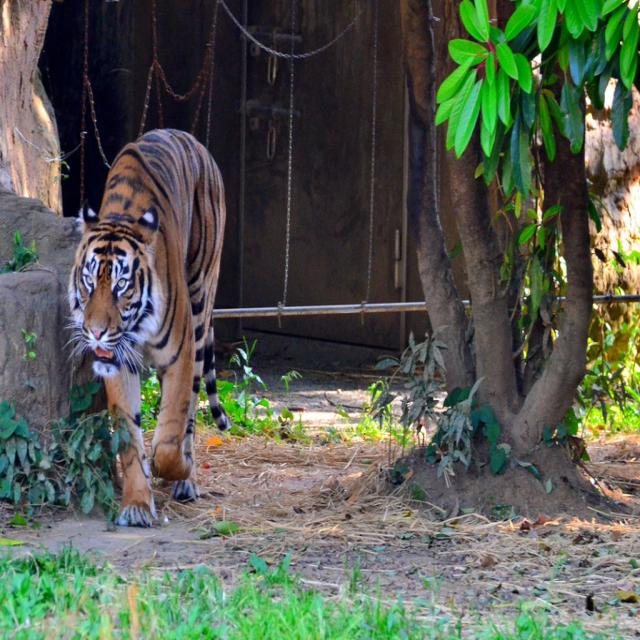Tiger: (58, 128, 225, 526)
